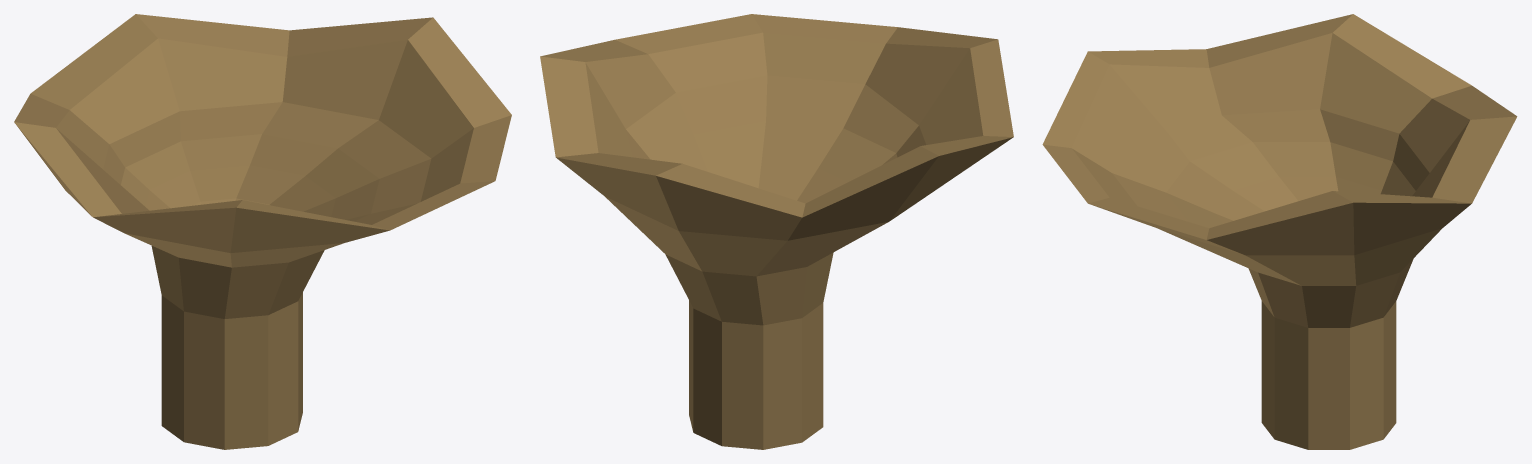
Rendered from Mushroom_2.fbx.
3 renders of one model, left to right at view 1: azimuth 30°, elevation 25°; view 2: azimuth 150°, elevation 25°; view 3: azimuth 270°, elevation 25°, orthographic. The views are drawn at different scales.
Visible parts, largest first — view 1: Mushroom2_mesh; view 2: Mushroom2_mesh; view 3: Mushroom2_mesh.
Part boxes in pixels (<box>): Mushroom2_mesh: <box>14,14,511,449</box>; Mushroom2_mesh: <box>540,14,1013,449</box>; Mushroom2_mesh: <box>1042,14,1517,449</box>.
Bounding box in the file's own units: 24.96 × 19.37 × 26.25.
